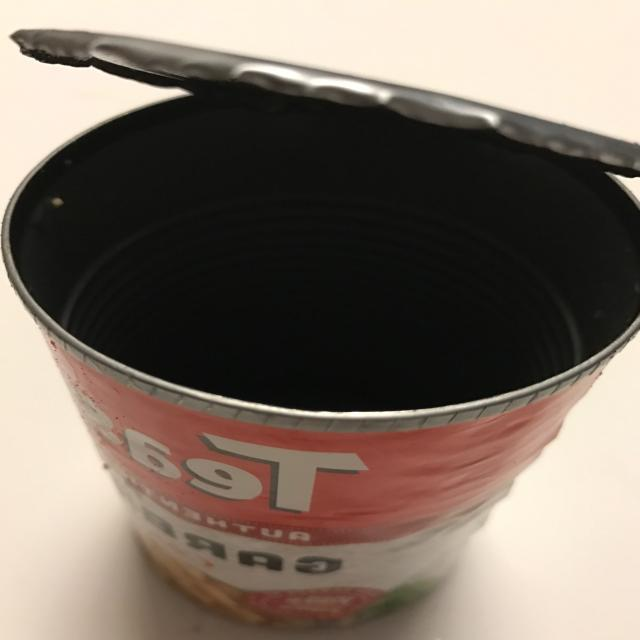metal: (0, 28, 640, 630)
